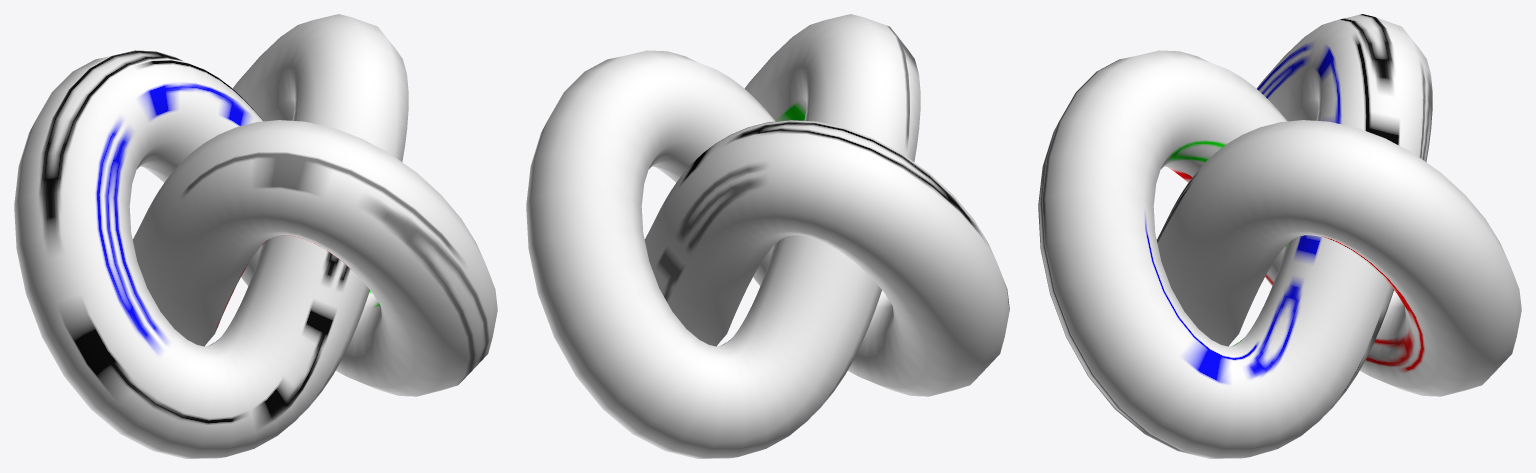
Rendered from torusanimated.FBX.
3 views of the same model, side by side, from view 1: azimuth 30°, elevation 25°; view 2: azimuth 150°, elevation 25°; view 3: azimuth 270°, elevation 25° (orthographic).
Parts seen in each view (by area): view 1: Torus Knot01; view 2: Torus Knot01; view 3: Torus Knot01.
Boxes of the visible parts, x1,y1,x2,y2 form: Torus Knot01: (14,14,497,458); Torus Knot01: (526,14,1009,458); Torus Knot01: (1038,14,1521,458).
Size of the model in its own units: 65.32 by 69.26 by 51.61.
